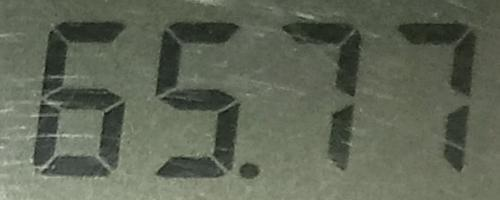.: (235, 161, 263, 182)
